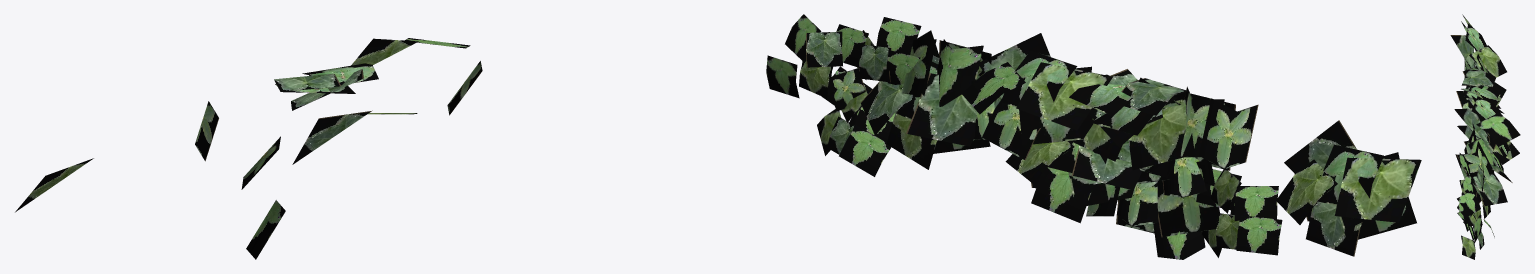
The model's file is SM_Ivy09_eb4780.glb.
3 views of the same model, side by side, from view 1: azimuth 30°, elevation 25°; view 2: azimuth 150°, elevation 25°; view 3: azimuth 270°, elevation 25° (orthographic). The views are drawn at different scales.
Bounding box in the file's own units: 1.91 × 0.4711 × 0.3045.
1 material, 1 textured.
